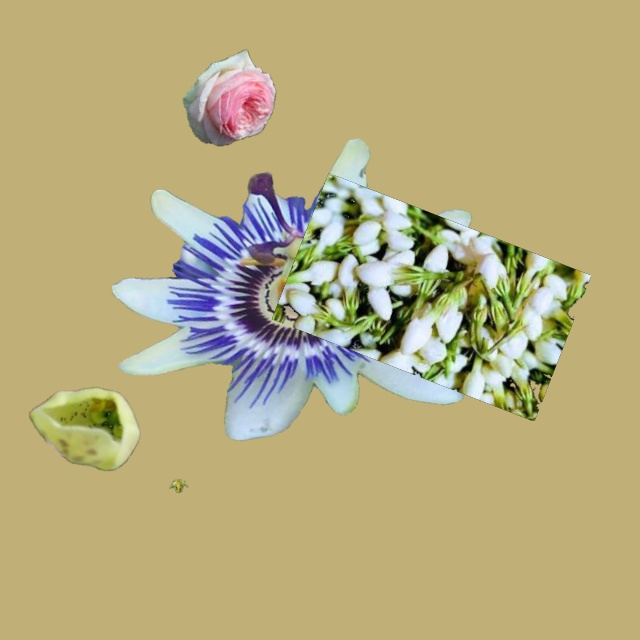foxglove: (29, 387, 139, 470)
jasmine: (272, 174, 590, 420)
passion flower: (112, 139, 507, 440)
rose: (183, 50, 275, 145)
ylang-ylang: (169, 479, 187, 492)
